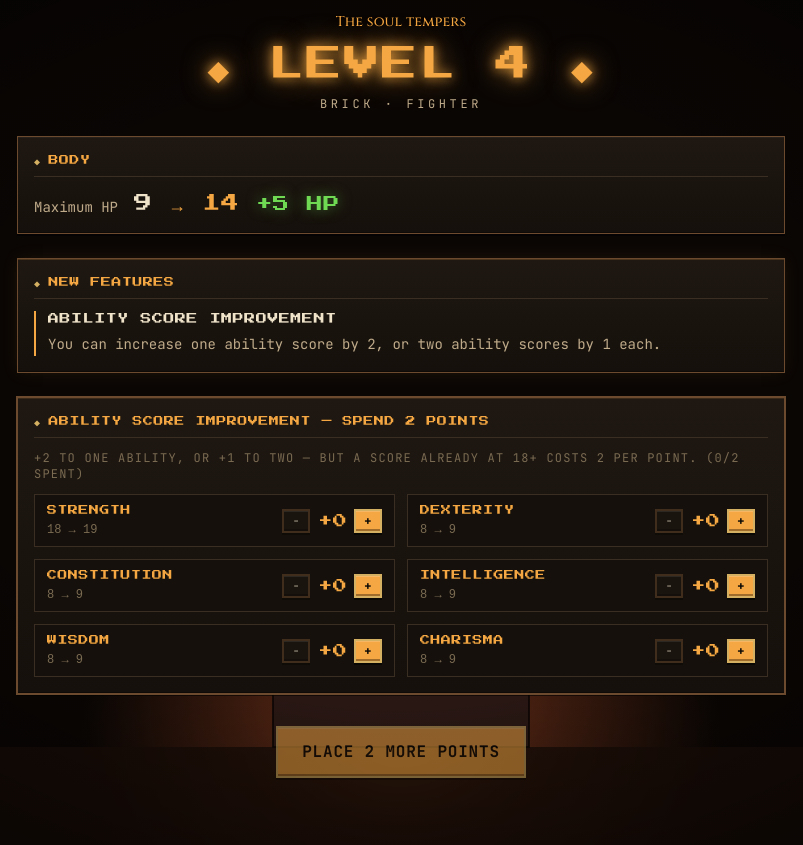
Test: LevelUpScreen — ASI costs 2 points per +1 above 18 › an 18+ stat takes one point, consumes the whole budget, and caps at 20
Click the button "+" in the row of "Strength": point(368, 521) [354, 509, 382, 533]
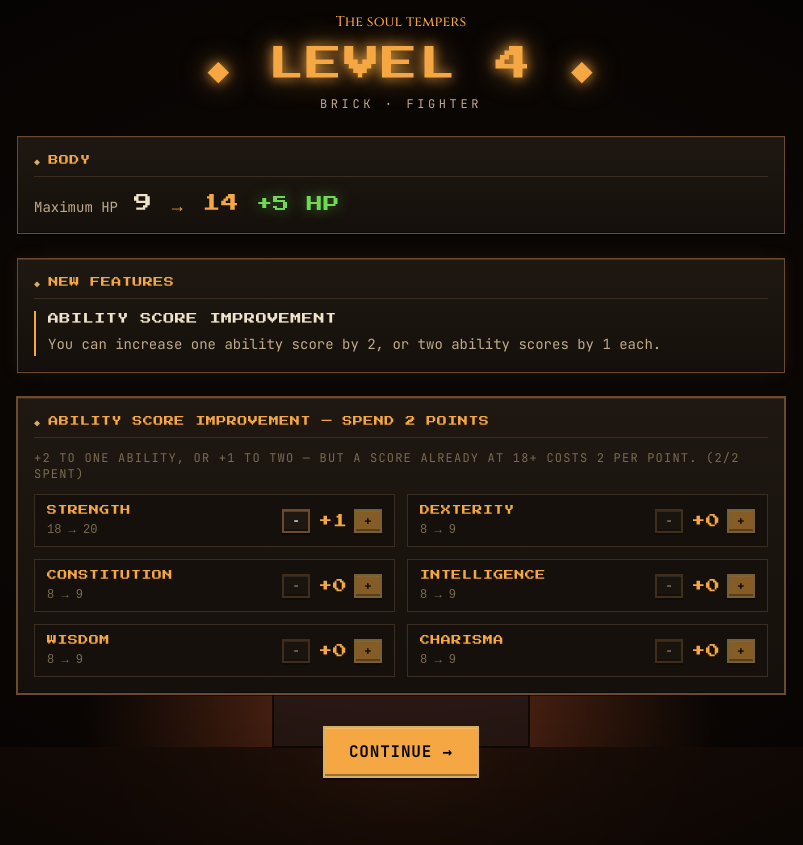
Expected: the button "Continue →" is enabled, [323, 726, 479, 778]
Expected: the button "+" in the row of "Dexterity" is disabled, [727, 509, 755, 533]
